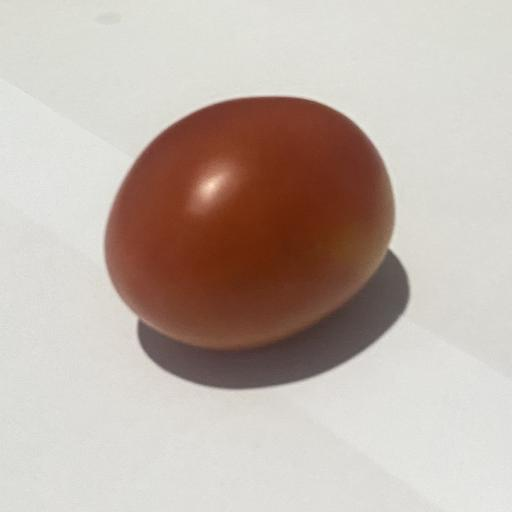ripe: (105, 97, 394, 350)
